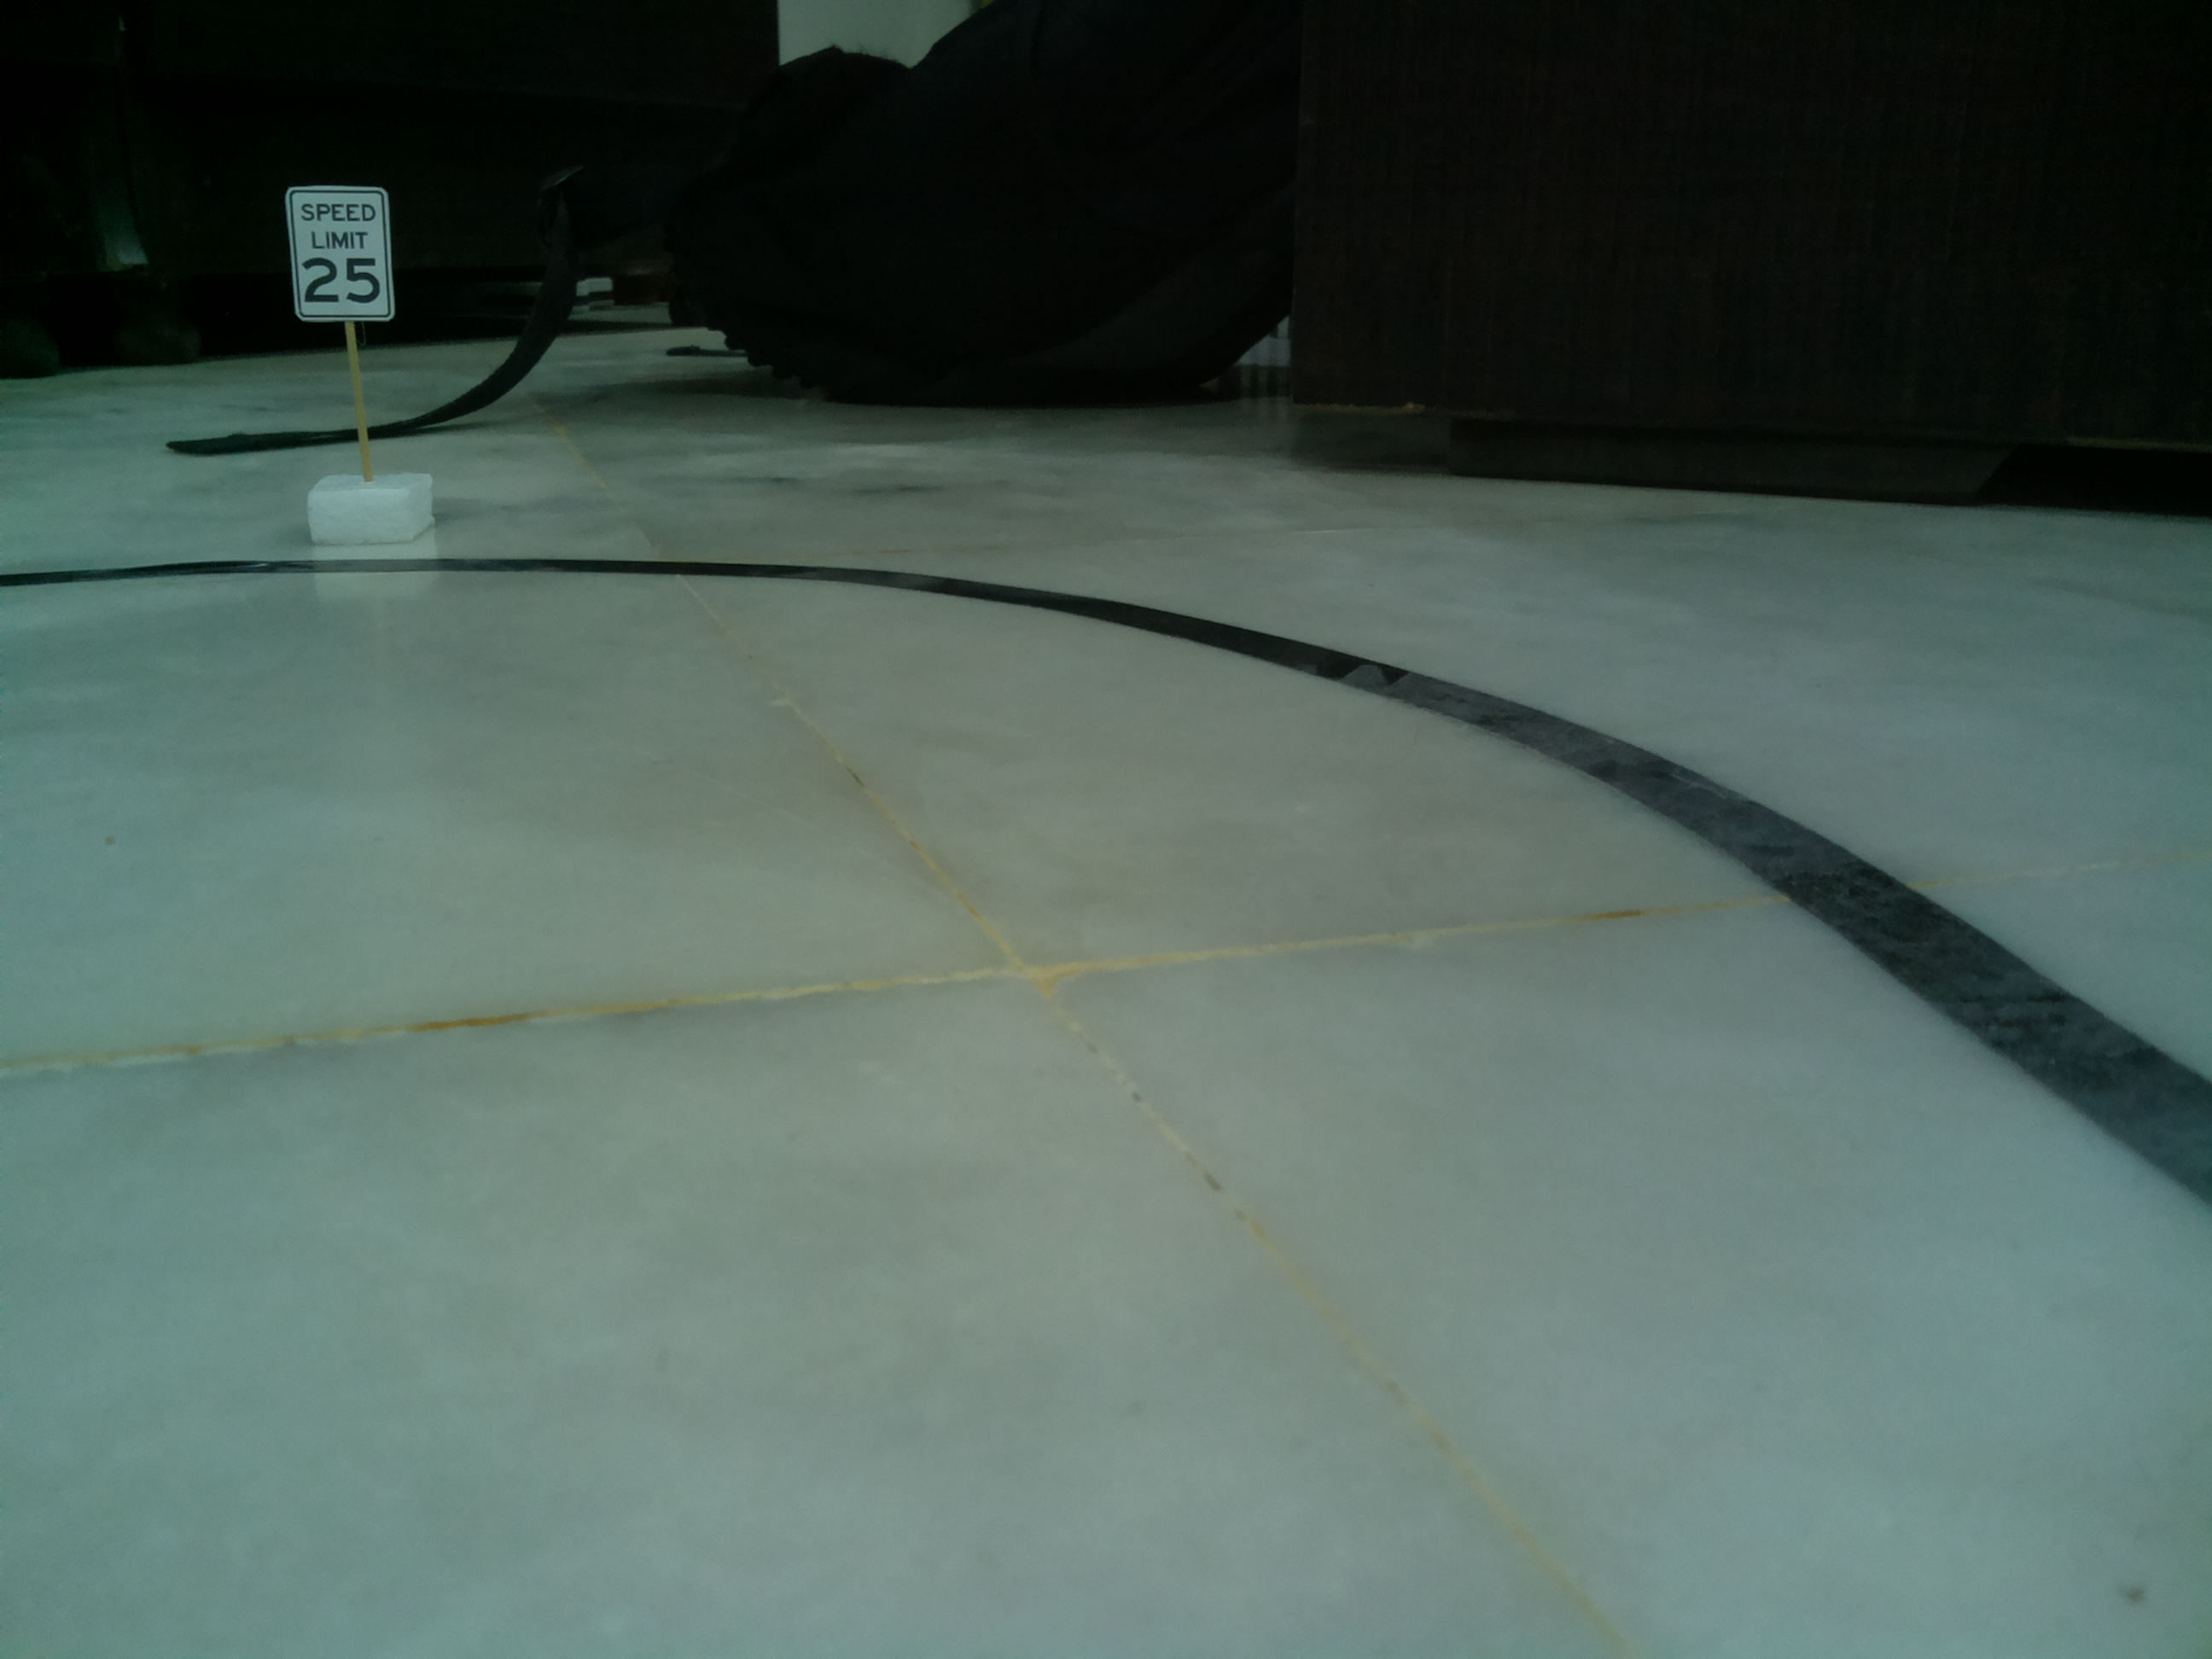Speed limit 25: (277, 181, 409, 329)
